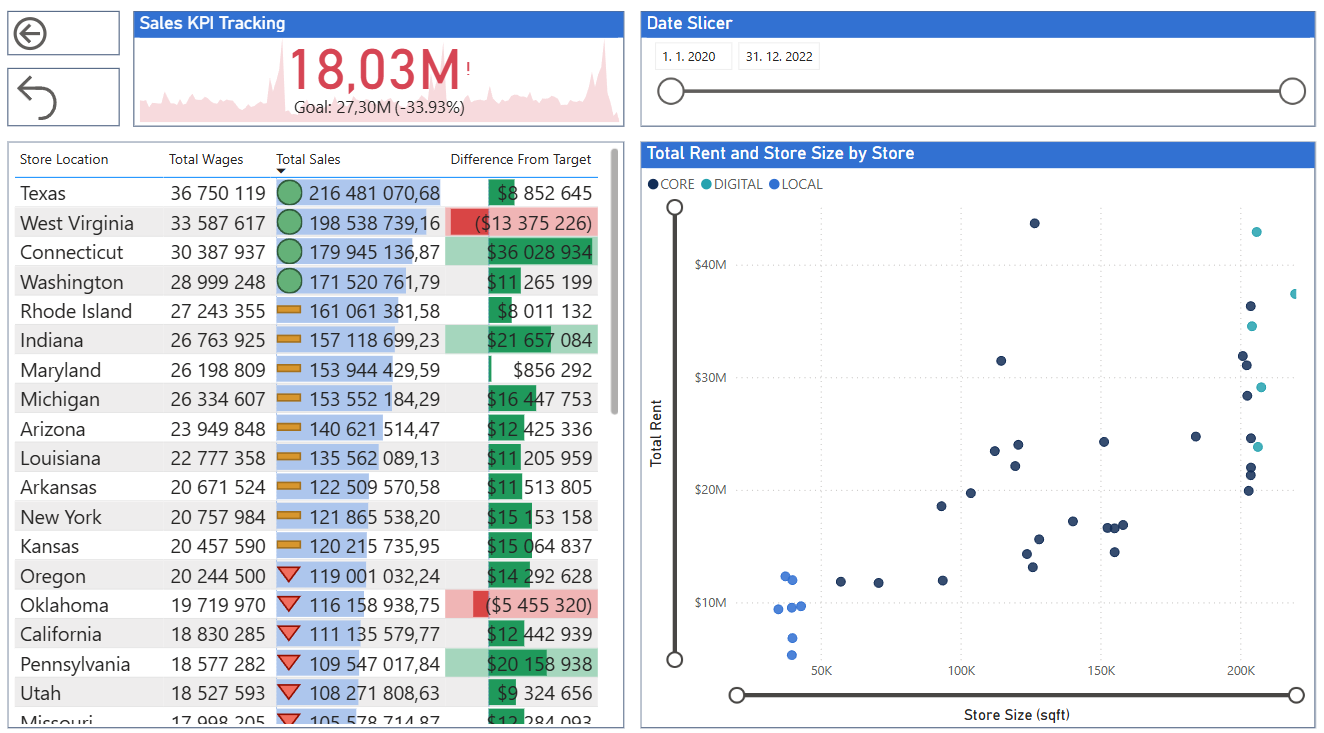

The page's visual inventory and layout, read from the dashboard file:
{"tool":"powerbi","page":{"name":"Cost & Target","canvas":[1280,720],"ordinal":1},"visuals":[{"type":"scatterChart","title":"Total Rent and Store Size by Store","fields":{"X":["Retail Cost.Store Size (sqft)"],"Y":["Retail Cost.Total Rent"],"Category":["Store Details New.StoreID"],"Series":["Store Details New.StoreType"]},"box":[573.3,141.7,685,558.3],"z":0},{"type":"kpi","title":"Sales KPI Tracking","fields":{"Indicator":["Retail Sales New.Total Sales"],"TrendLine":["Date New.Date"],"Goal":["Retail Cost.Total Target"]},"box":[133.3,16.7,421.7,110],"z":1000},{"type":"tableEx","fields":{"Values":["Store Details New.Store Location","Retail Cost.Total Wages","Retail Sales New.Total Sales","Retail Cost.Difference From Target"]},"box":[13.3,141.7,541.7,558.3],"z":2000},{"type":"slicer","title":"Date Slicer","fields":{"Values":["Date New.Date"]},"box":[573.3,16.7,685,110],"z":3000},{"type":"actionButton","box":[13.3,71.7,106.7,55],"z":4000},{"type":"actionButton","box":[13.3,16.7,106.7,41.7],"z":5000}]}

Visuals, with their boxes in screenshot pixels (x1, y1, x2, y2), scaled from the page's 1280x720 canvas onto the 1324x733 screenshot:
"Total Rent and Store Size by Store" scatterChart: [593, 144, 1302, 713]
"Sales KPI Tracking" kpi: [138, 17, 574, 129]
tableEx - Store Details New.Store Location x Retail Cost.Total Wages: [14, 144, 574, 713]
"Date Slicer" slicer: [593, 17, 1302, 129]
actionButton: [14, 73, 124, 129]
actionButton: [14, 17, 124, 59]
